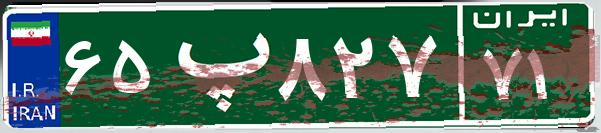1: (525, 38, 570, 115)
2: (330, 28, 385, 110)
5: (110, 28, 158, 105)
6: (57, 26, 110, 107)
7: (385, 28, 445, 110), (475, 38, 525, 113)
8: (273, 28, 330, 110)
پ: (158, 15, 273, 115)
